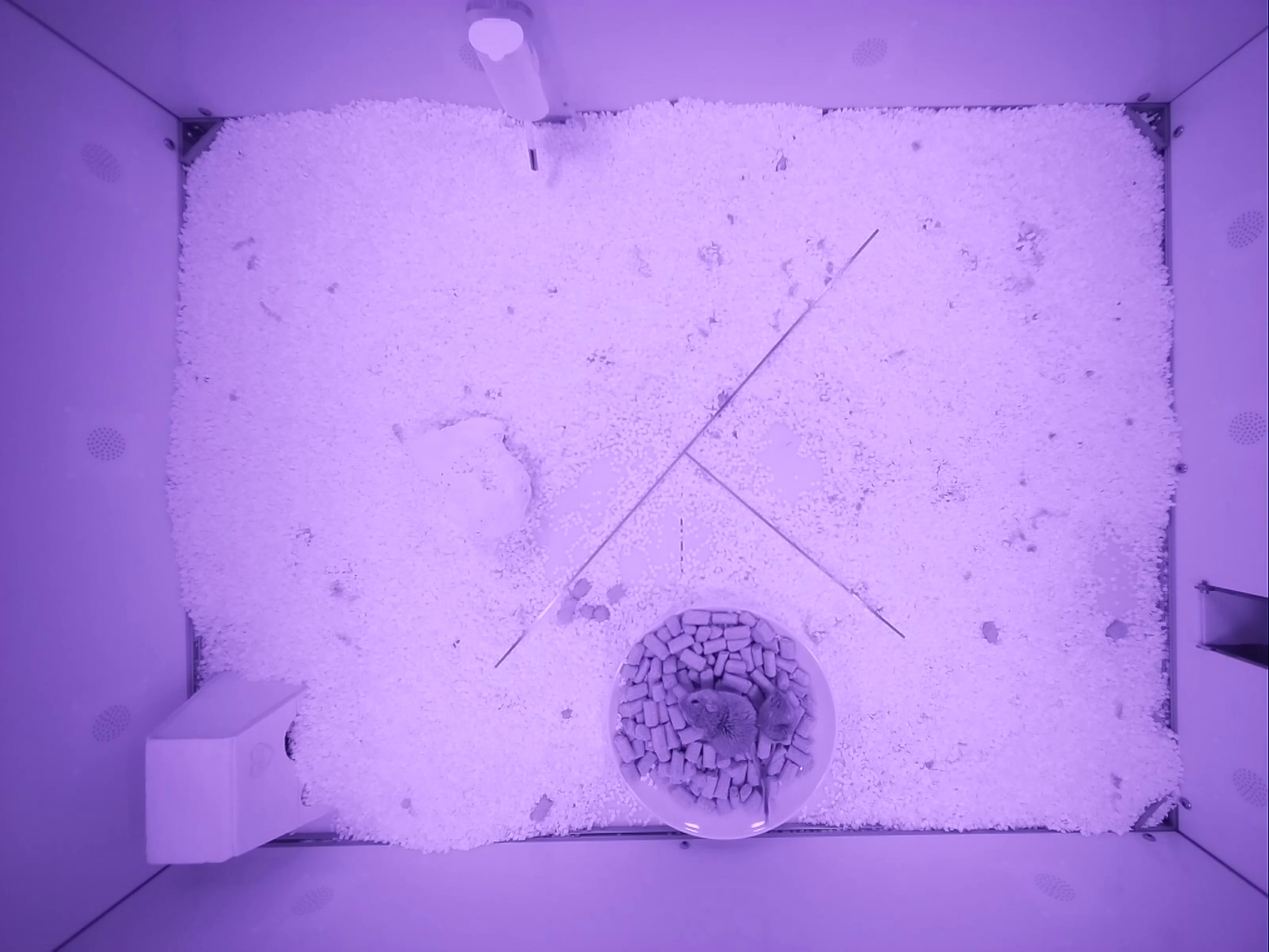adult_back: (681, 689, 757, 756), (757, 690, 802, 743)
